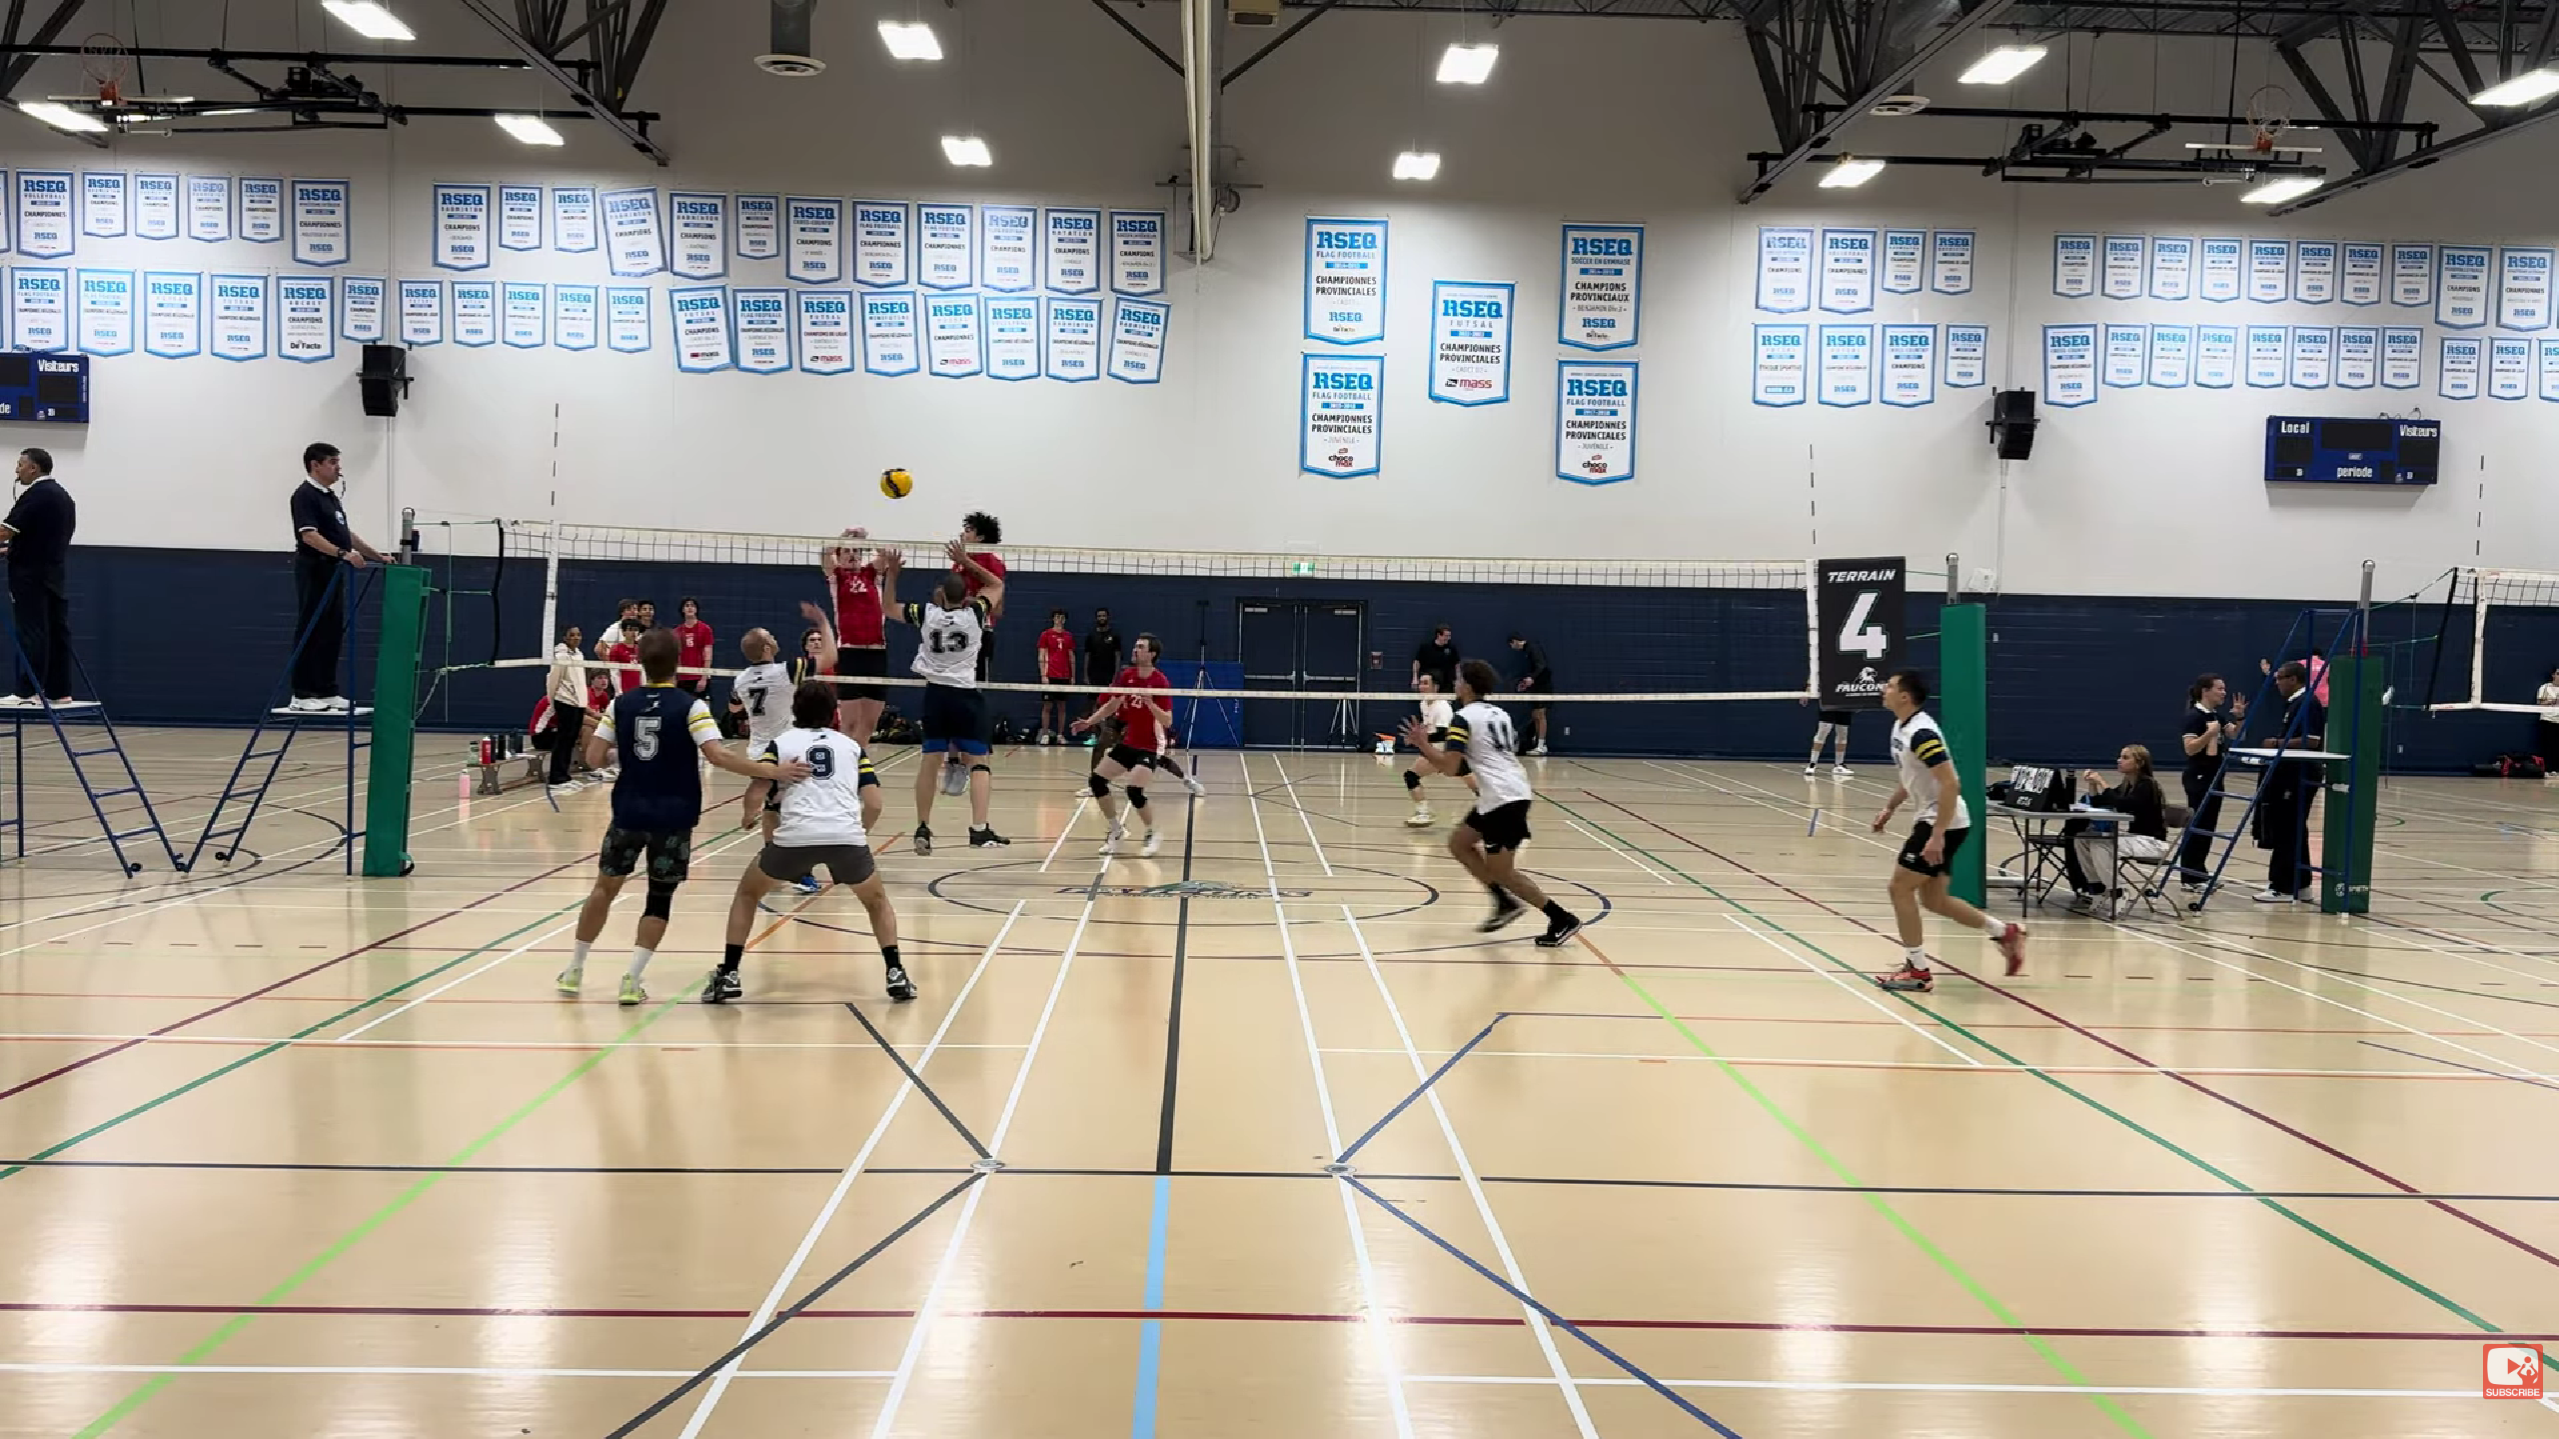Ball: (879, 464, 914, 501)
